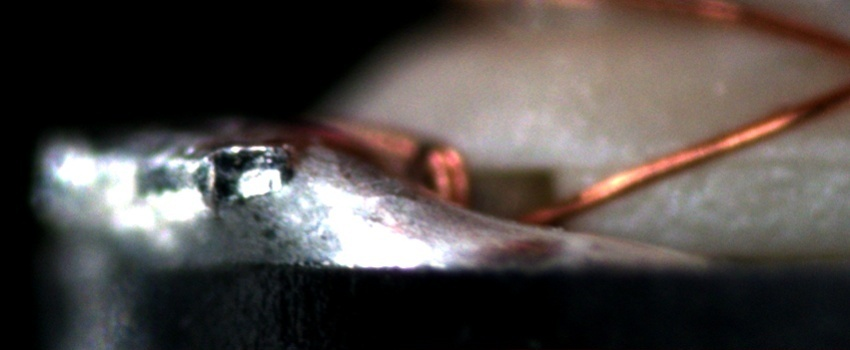DL: (647, 142, 849, 185)
TE: (315, 117, 480, 210)
